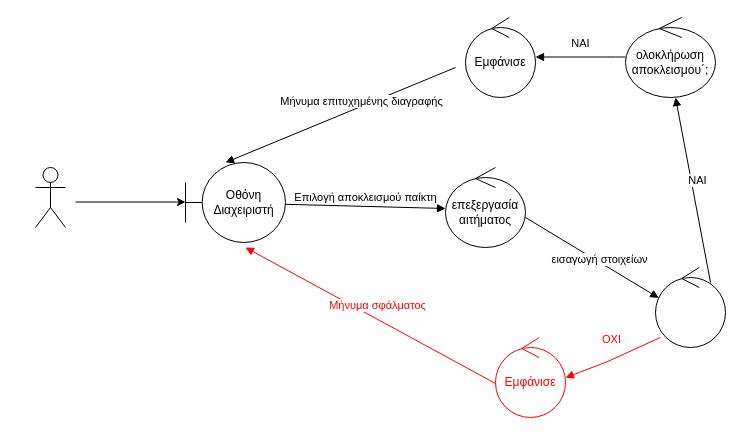
The diagram is 743 pixels wide and 435 high, and some of its shapes have lost their labels. Here are the shapes that lost their labels. From the top down, the box of each, then its label:
(34, 166, 66, 228): Διαχειριστής
(654, 266, 726, 348): Υπάρχει ο παίκτης;
